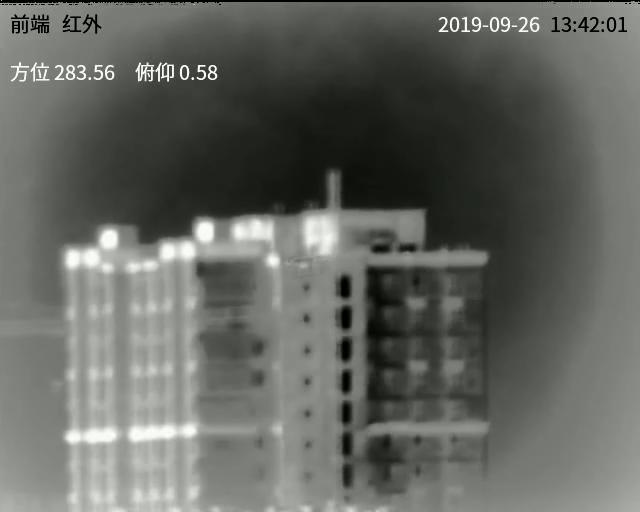uav: (280, 251, 322, 282)
